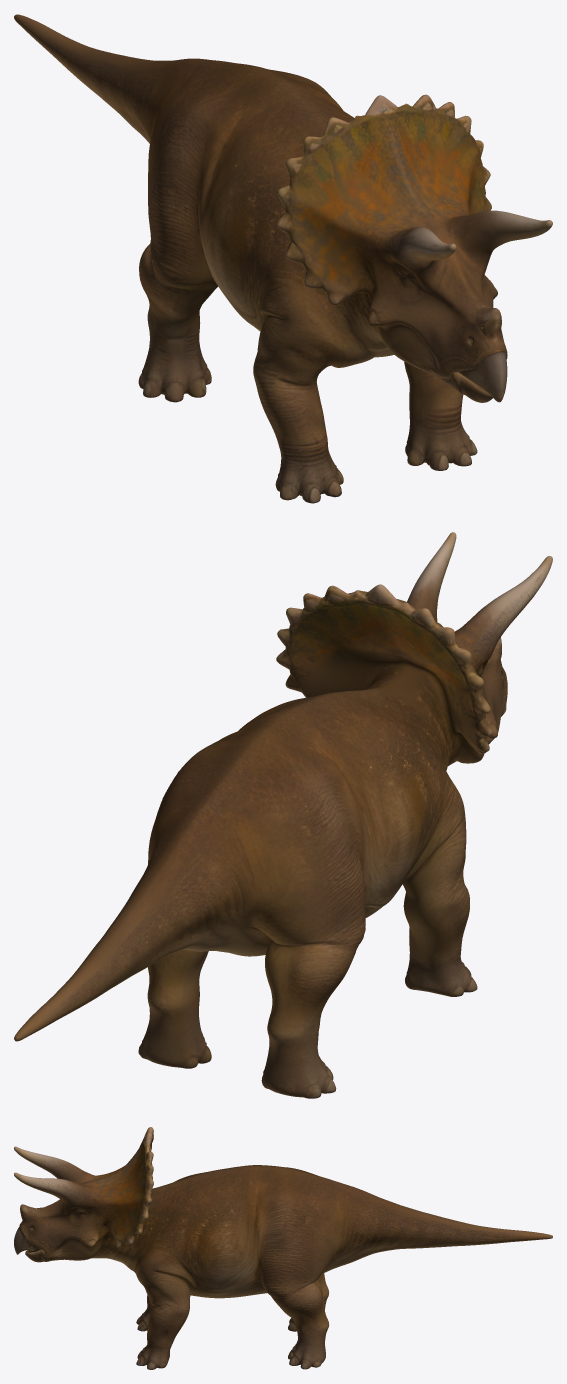
The model's file is triceratops.glb.
3 renders of one model, top to bottom at view 1: azimuth 30°, elevation 25°; view 2: azimuth 150°, elevation 25°; view 3: azimuth 270°, elevation 25°, orthographic. The views are drawn at different scales.
Visible parts, largest first — view 1: material; view 2: material; view 3: material.
Boxes of the visible parts, left/top/right/bottom form: material: left=14, top=14, right=552, bottom=503; material: left=14, top=532, right=552, bottom=1098; material: left=14, top=1127, right=552, bottom=1369.
Size of the model in its own units: 2.02 by 3.46 by 8.
1 material, 1 textured.
